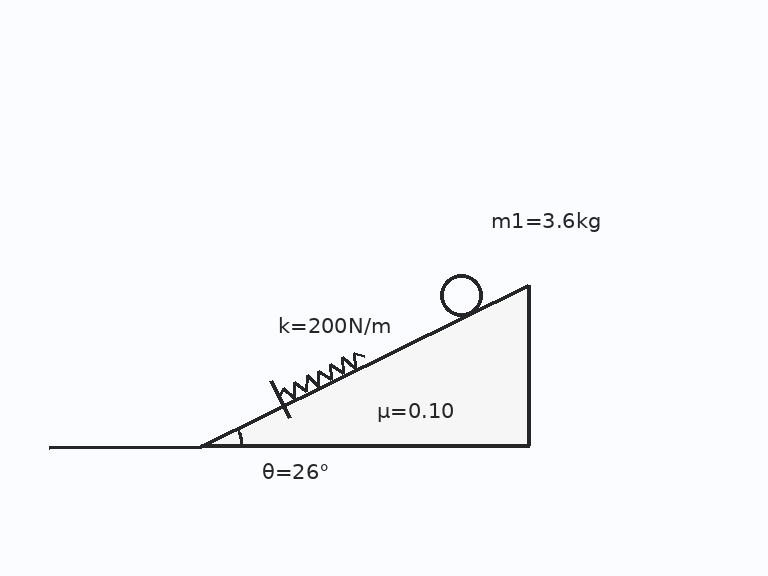ball: (438, 272, 484, 318)
ramp: (199, 283, 530, 447)
spring: (277, 350, 366, 399)
